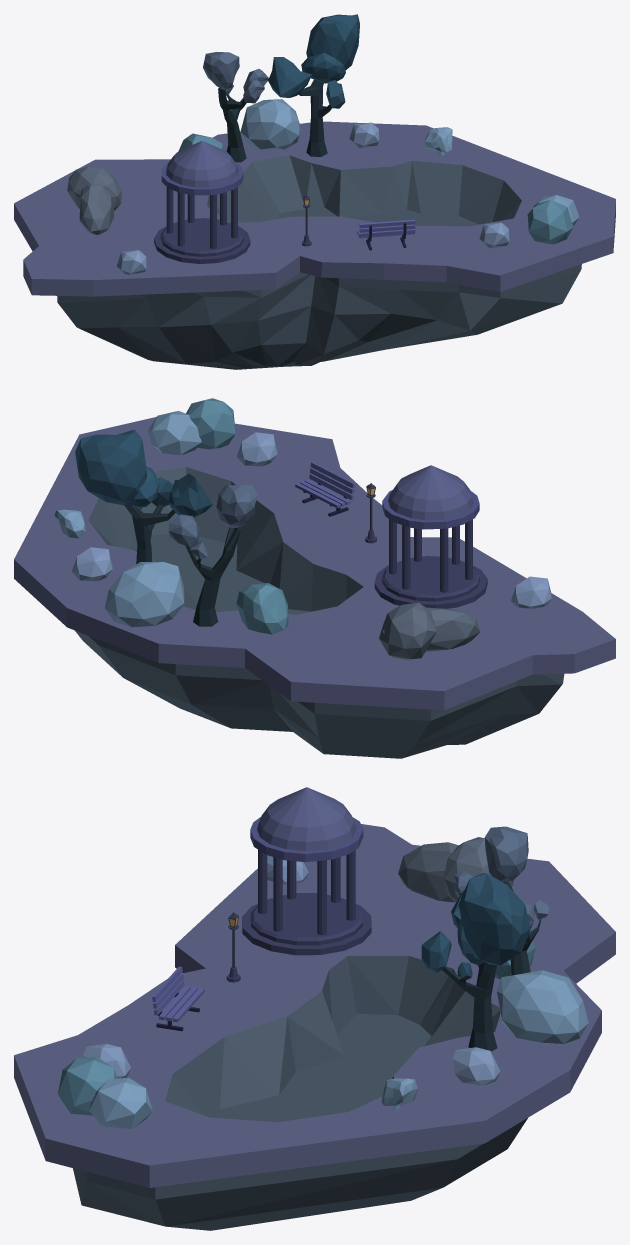
File: Озеро С домом.fbx
3 renders of one model, top to bottom at view 1: azimuth 30°, elevation 25°; view 2: azimuth 150°, elevation 25°; view 3: azimuth 270°, elevation 25°, orthographic. The views are drawn at different scales.
Visible parts, largest first — view 1: Cube.045, Icosphere.026, Cylinder.008, Cylinder.010, Icosphere.022, Cylinder.009, Icosphere.025, Sphere.003, Icosphere.020, Cylinder.012, Icosphere.019, Cylinder.011 (+5 smaller); view 2: Cube.045, Icosphere.026, Cylinder.008, Icosphere.022, Cylinder.010, Cylinder.009, Icosphere.019, Icosphere.025, Icosphere.024, Cylinder.011, Sphere.003, Sphere.002 (+7 smaller); view 3: Cube.045, Icosphere.026, Cylinder.008, Cylinder.010, Icosphere.022, Cylinder.009, Icosphere.025, Sphere.002, Icosphere.020, Sphere.003, Cylinder.012, Cube.044 (+5 smaller).
Part boxes in pixels (x1,y1,x2,y2): Cube.045: (14,121,615,369); Icosphere.026: (268,14,359,108); Cylinder.008: (161,141,243,195); Cylinder.010: (154,218,250,263); Icosphere.022: (240,99,301,150); Cylinder.009: (166,187,237,248); Icosphere.025: (203,52,268,103); Sphere.003: (527,200,573,244); Icosphere.020: (79,183,114,234); Cylinder.012: (298,79,331,156); Icosphere.019: (67,166,121,210); Cylinder.011: (218,88,246,162); Cube.045: (14,417,615,758); Icosphere.026: (75,429,212,517); Cylinder.008: (382,465,479,529); Icosphere.022: (105,562,184,627); Cylinder.010: (374,556,487,608); Cylinder.009: (389,519,472,592); Icosphere.019: (379,602,436,659); Icosphere.025: (168,484,257,558); Icosphere.024: (236,583,288,634); Cylinder.011: (185,527,240,626); Sphere.003: (186,398,235,449); Sphere.002: (148,411,201,455); Cube.045: (14,824,615,1230); Icosphere.026: (421,873,530,980); Cylinder.008: (250,787,363,862); Cylinder.010: (242,893,371,955); Icosphere.022: (497,970,588,1043); Cylinder.009: (258,850,355,935); Icosphere.025: (454,826,548,928); Sphere.002: (89,1077,152,1128); Icosphere.020: (398,842,458,902); Sphere.003: (58,1057,116,1115); Cylinder.012: (442,962,497,1051); Cube.044: (152,966,204,1022).
Bounding box in the file's own units: 1239 × 601 × 908.
